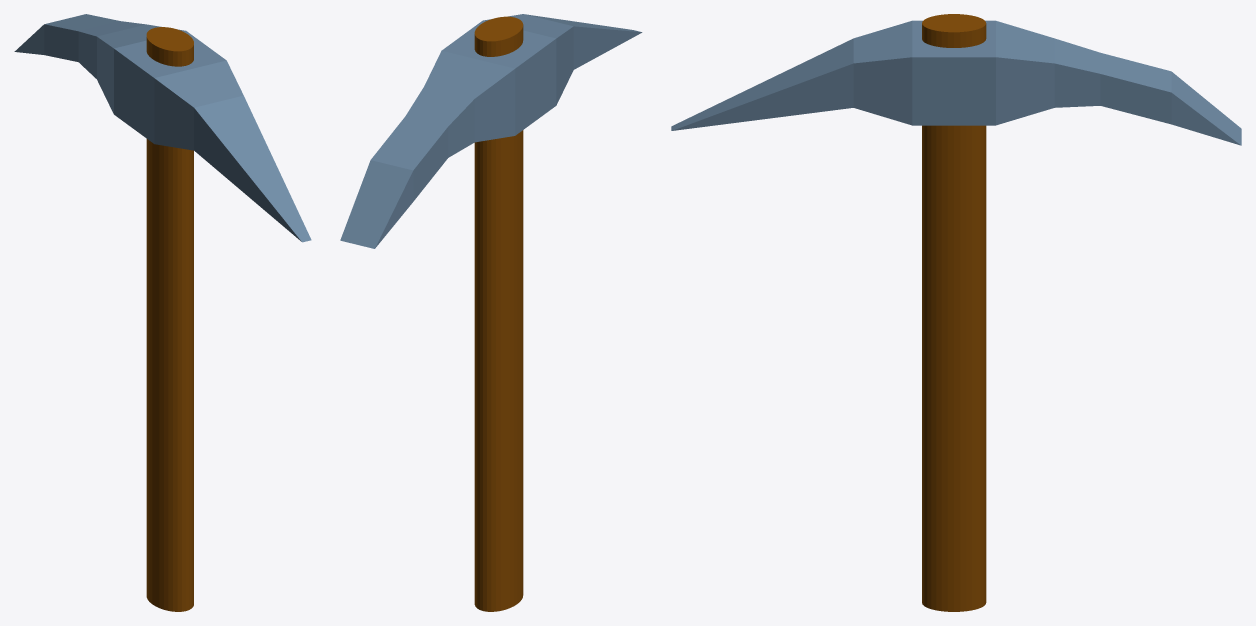
Rendered from metal_pickaxe.glb.
3 views of the same model, side by side, from view 1: azimuth 30°, elevation 25°; view 2: azimuth 150°, elevation 25°; view 3: azimuth 270°, elevation 25° (orthographic). The views are drawn at different scales.
Visible parts, largest first — view 1: Cylinder, Cube; view 2: Cylinder, Cube; view 3: Cube, Cylinder.
Part boxes in pixels (bbox=[...]): Cylinder: bbox=[146, 27, 193, 611]; Cube: bbox=[14, 14, 311, 242]; Cylinder: bbox=[474, 16, 523, 611]; Cube: bbox=[340, 14, 642, 248]; Cube: bbox=[671, 20, 1241, 145]; Cylinder: bbox=[922, 14, 986, 611].
Size of the model in its own units: 2 by 14.8 by 13.19.
